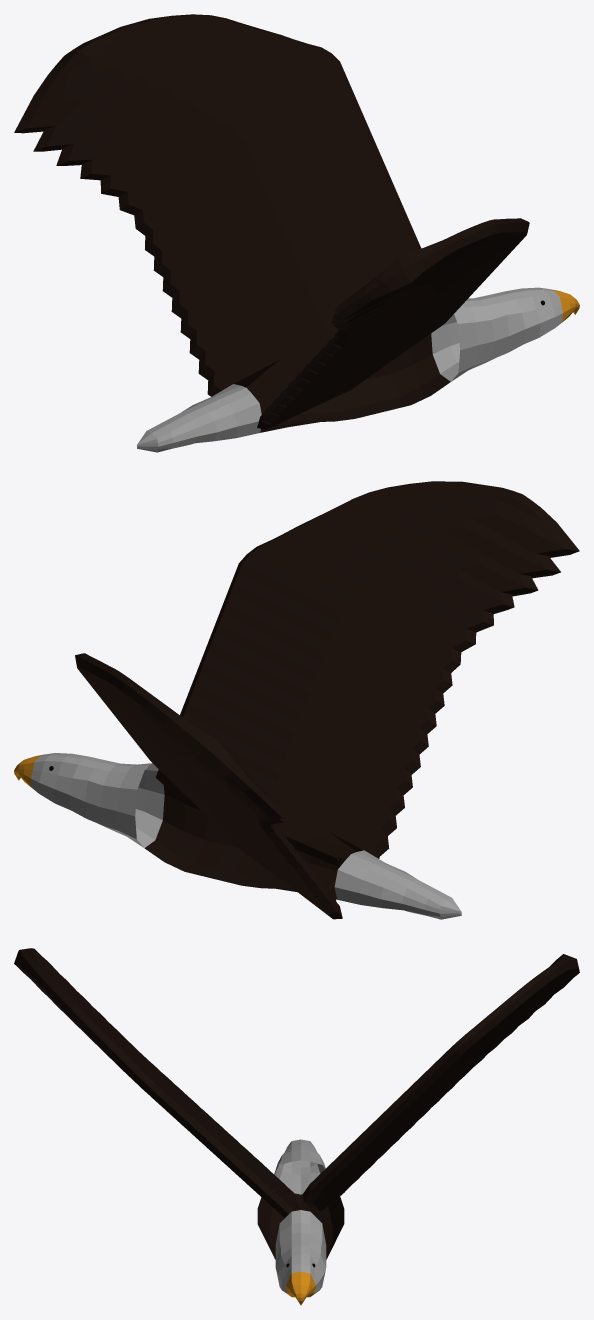
Rendered from 09_golden_eagle.obj.
The picture shows the model from 3 angles, top to bottom: view 1: azimuth 30°, elevation 25°; view 2: azimuth 150°, elevation 25°; view 3: azimuth 270°, elevation 25°; orthographic projection. The views are drawn at different scales.
Visible parts, largest first — view 1: Plane.002_0, Plane.001_0, Plane_1, Plane_0; view 2: Plane.001_0, Plane.002_0, Plane_1, Plane_0; view 3: Plane.002_0, Plane.001_0, Plane_1, Plane_0, Plane_2.
Part boxes in pixels (x1,y1,x2,y2): Plane.002_0: (14, 14, 421, 414); Plane.001_0: (257, 218, 529, 429); Plane_1: (137, 287, 562, 452); Plane_0: (234, 333, 450, 432); Plane.001_0: (155, 481, 579, 866); Plane.002_0: (75, 653, 342, 919); Plane_1: (31, 753, 461, 919); Plane_0: (144, 785, 363, 899); Plane.002_0: (302, 954, 579, 1211); Plane.001_0: (14, 948, 300, 1217); Plane_1: (274, 1139, 326, 1295); Plane_0: (257, 1167, 344, 1259); Plane_2: (286, 1271, 315, 1305).
Bounding box in the file's own units: 4.71 × 3.11 × 6.02.
